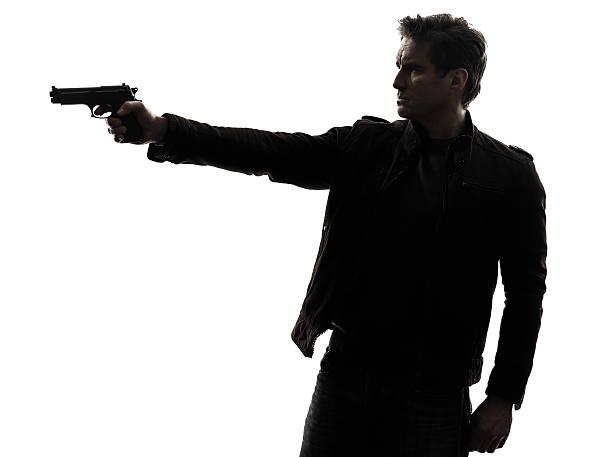weapon: (45, 80, 147, 143)
